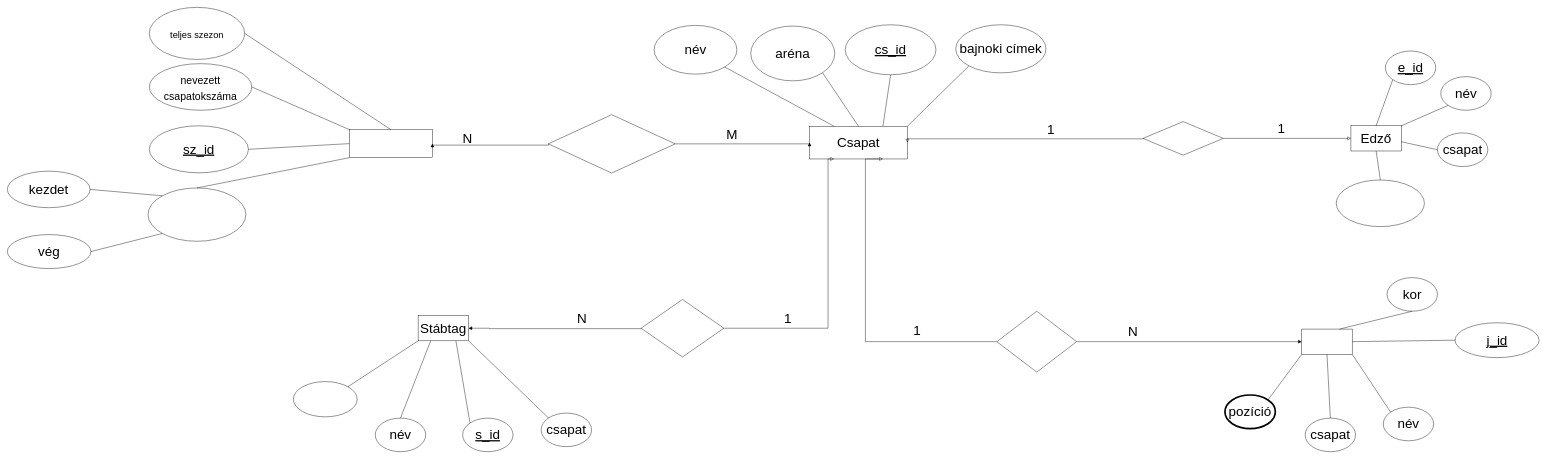
Some shapes in this 1546 by 459 pixel diagram are drawn without their labels. The shapes that lost their labels are listed below. From the top down, each one's centre as x and y in pixels, then its label:
(x=390, y=143): Szezon
(x=611, y=143): Szezonban játszó csapatok
(x=1183, y=138): Vezetőedző
(x=197, y=214): időtartam
(x=1380, y=203): aktív szezon
(x=682, y=328): csapat stábtagja
(x=1036, y=341): csapat játékosa
(x=1326, y=341): Játékos
(x=325, y=399): beosztás
